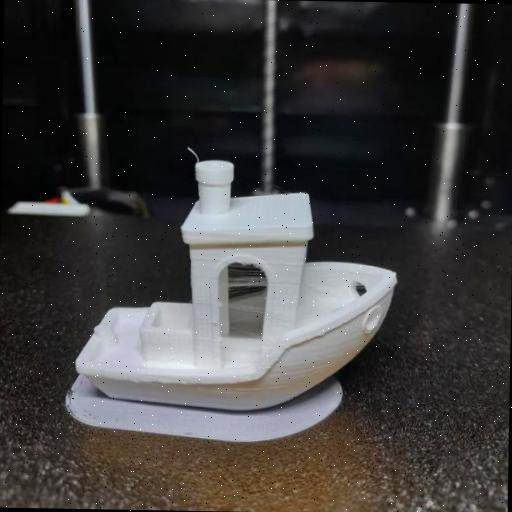stringing: (230, 268, 266, 290), (222, 304, 264, 314)
